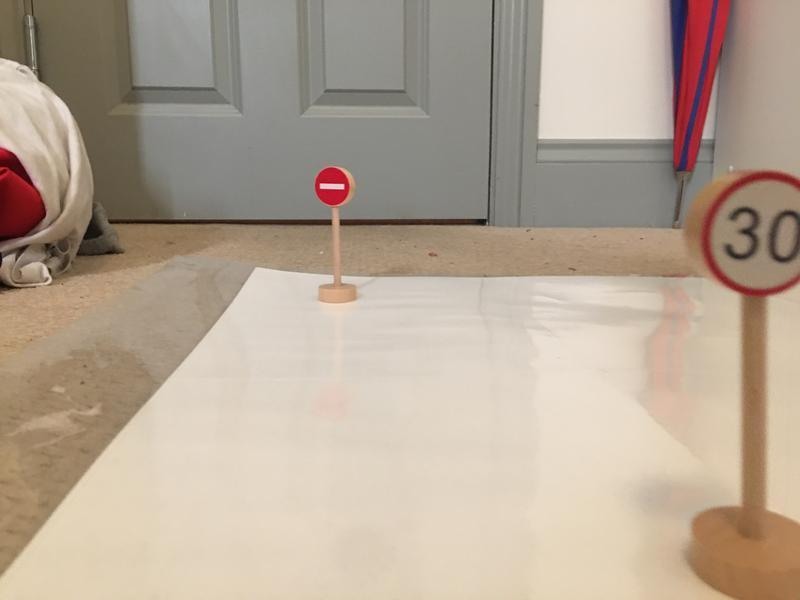Traffic_Sign_30: (706, 173, 800, 295)
Traffic_Sign_No_Entry: (314, 165, 351, 206)
